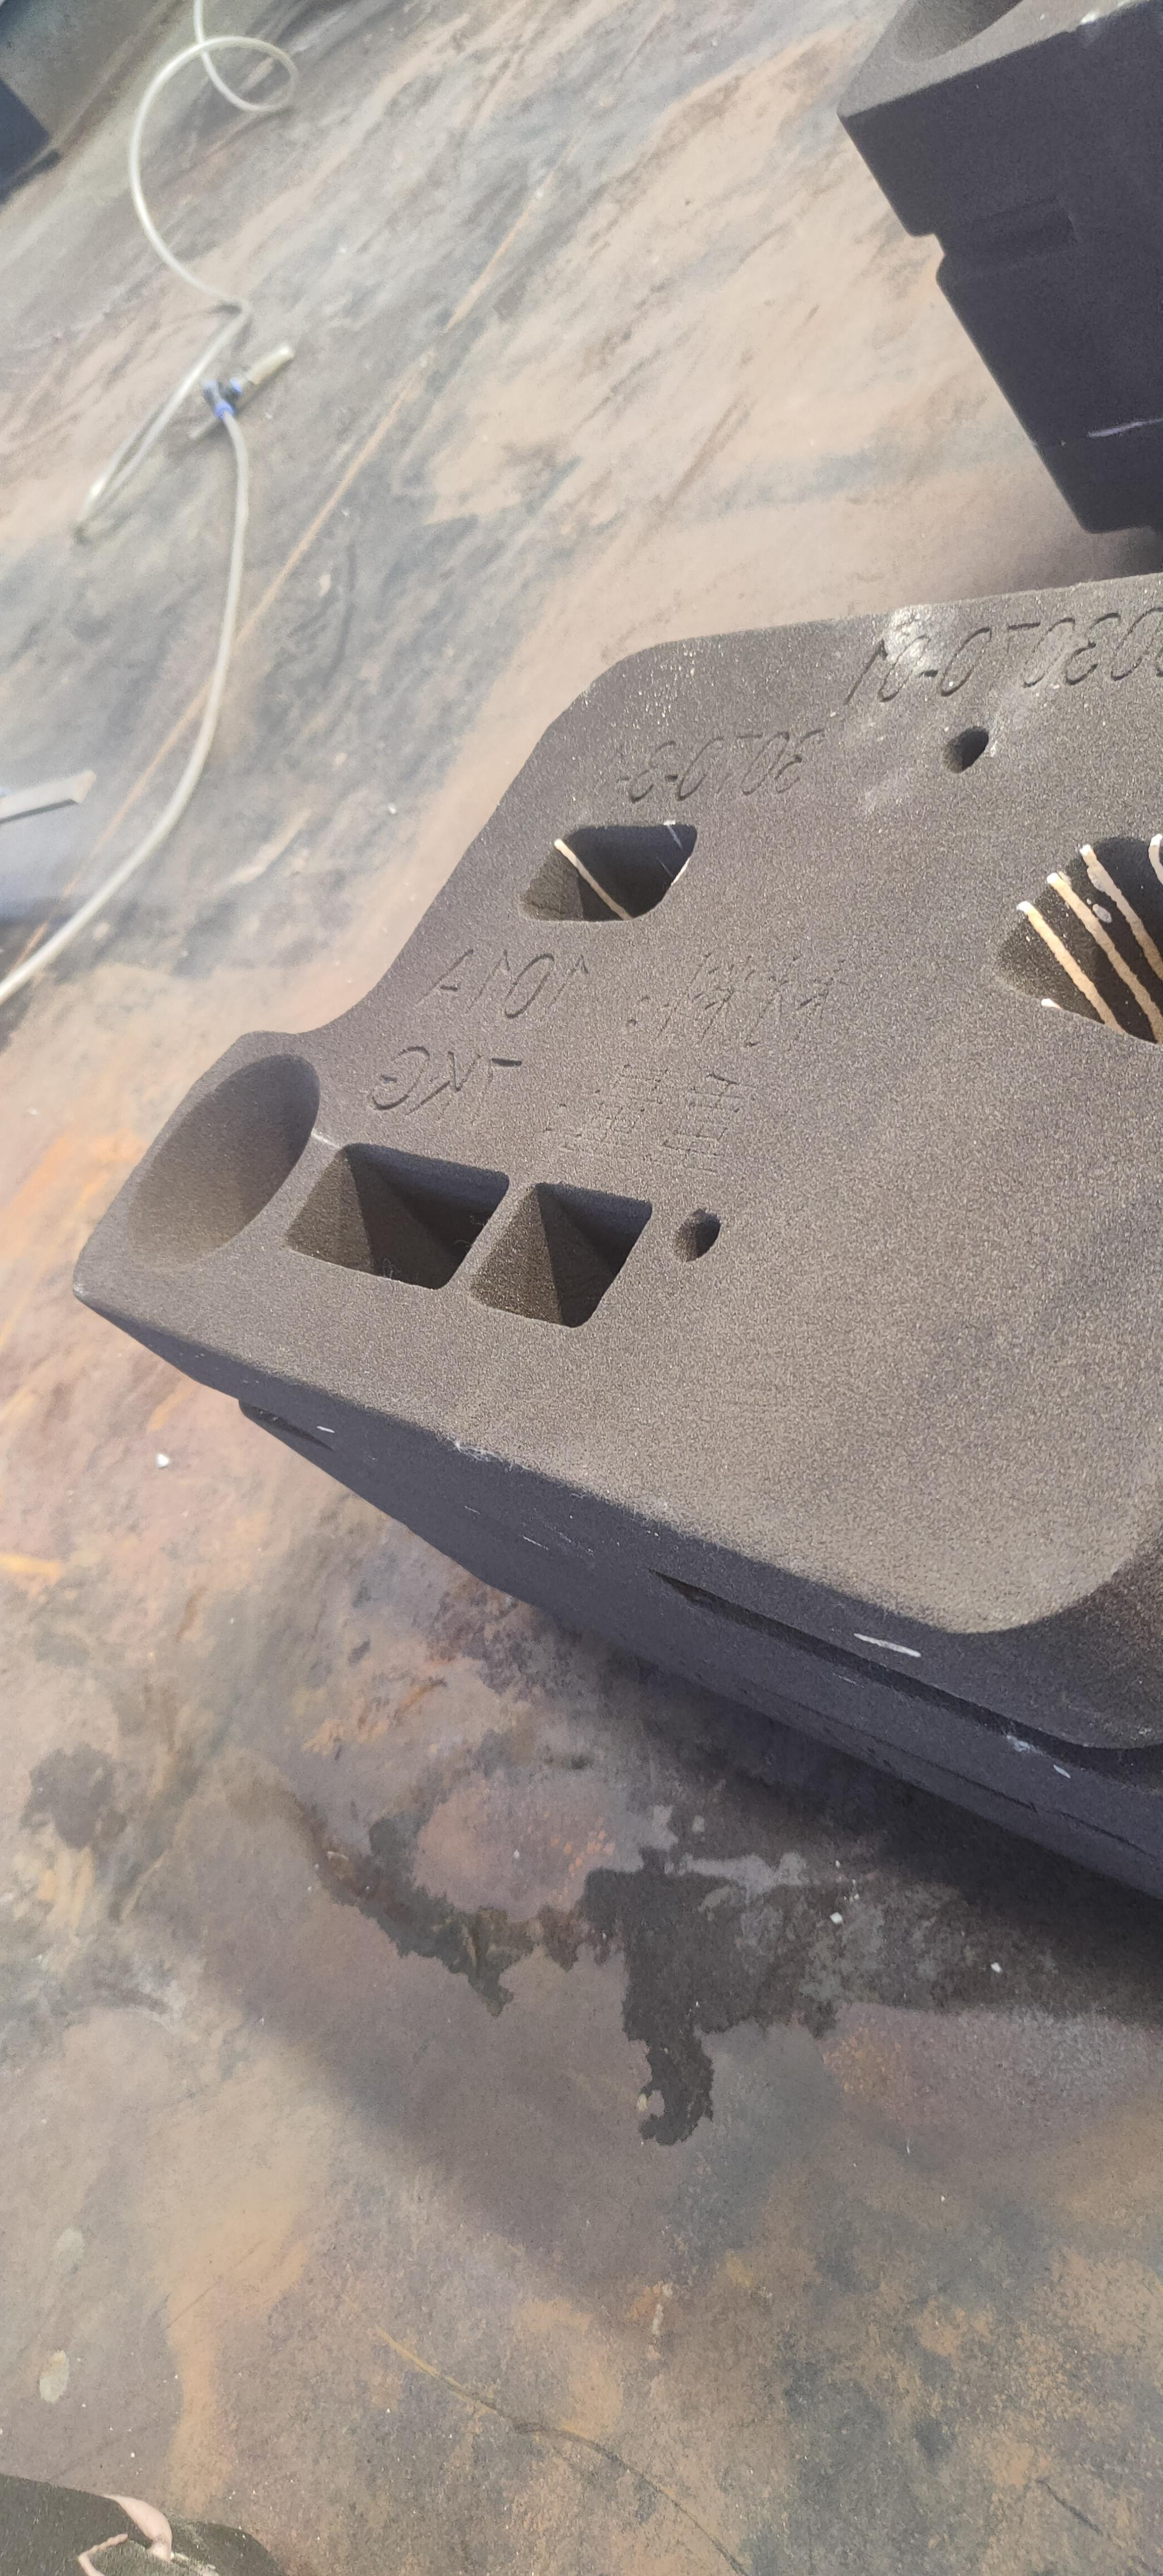pouring hole: (115, 1050, 320, 1281), (869, 0, 1030, 66)
